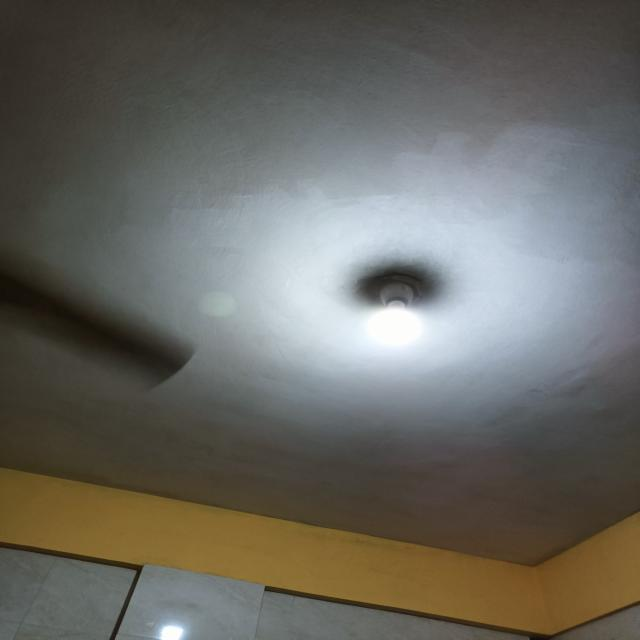bulb_on: (361, 270, 429, 350)
